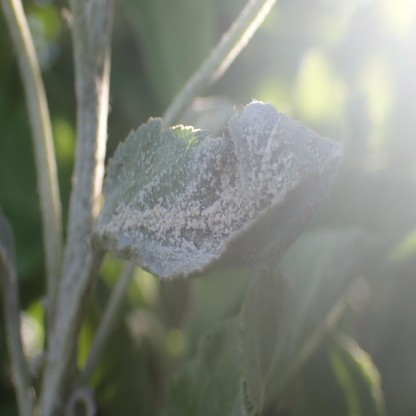powdery_mildew: (94, 100, 345, 283)
